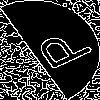P: (25, 25, 95, 77)
